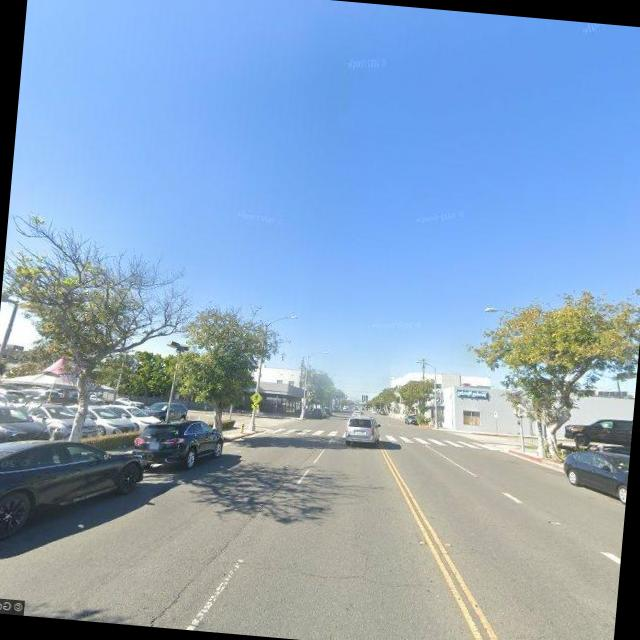crack: (231, 550, 411, 596)
